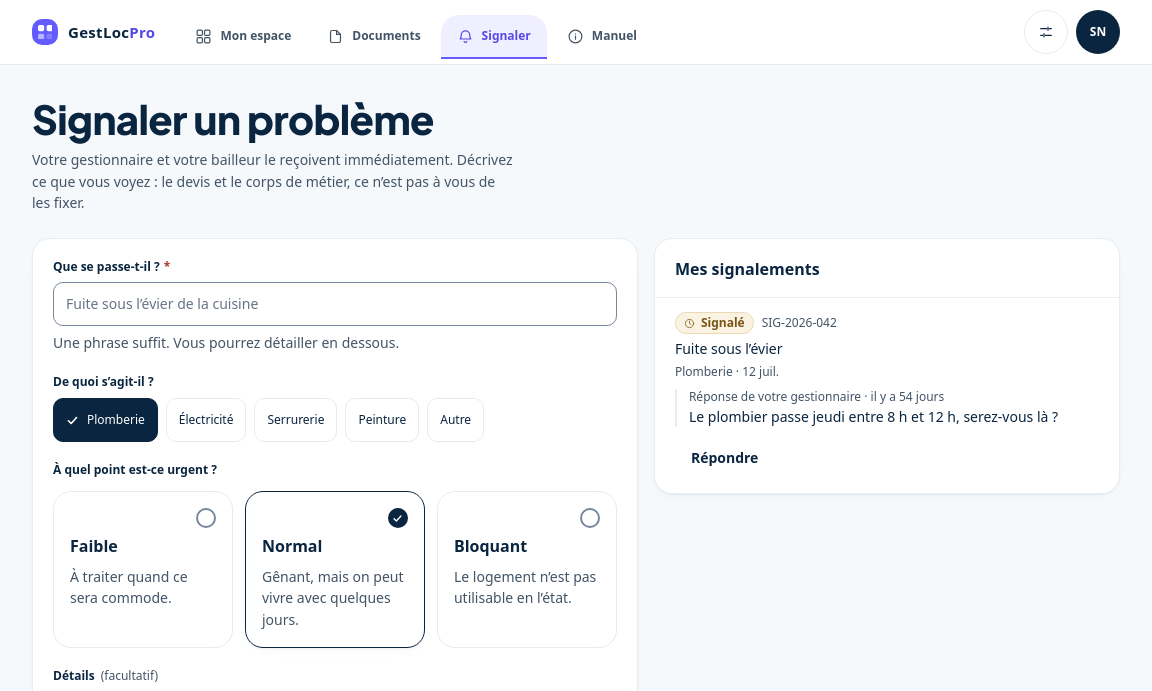
Test: le locataire répond depuis son écran › envoie sa phrase à la route, et ne l’annonce qu’après
This screenshot has width=1152, height=691.
Click the button "Répondre" at (725, 457), box [675,435,774,479]
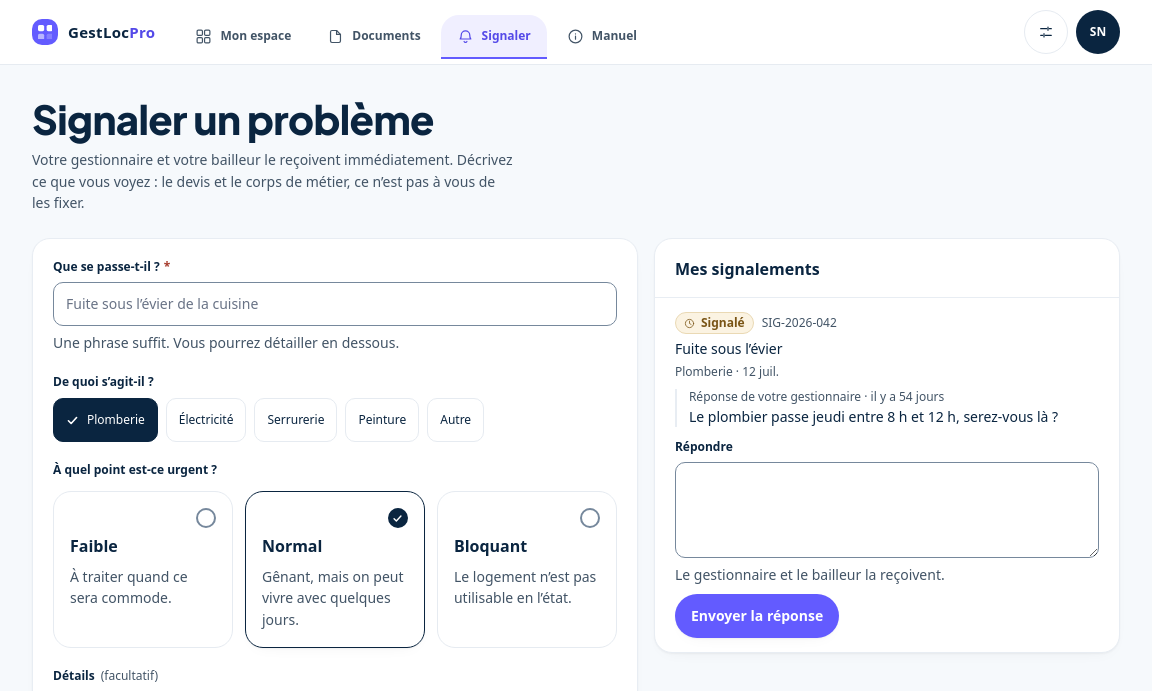
Type "Jeudi je travaille, vendredi matin je suis là." into the text box labelled "Répondre" at (887, 510), box [675,462,1099,558]
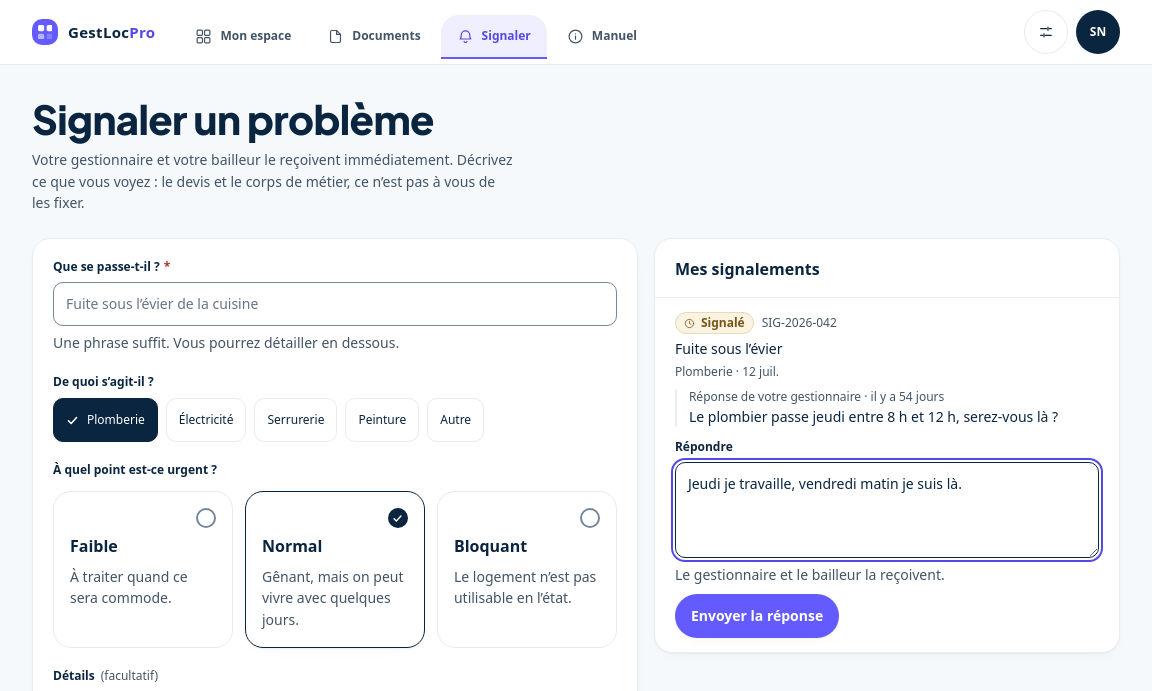
Click the button "Envoyer la réponse" at (757, 616), box [675,594,839,638]
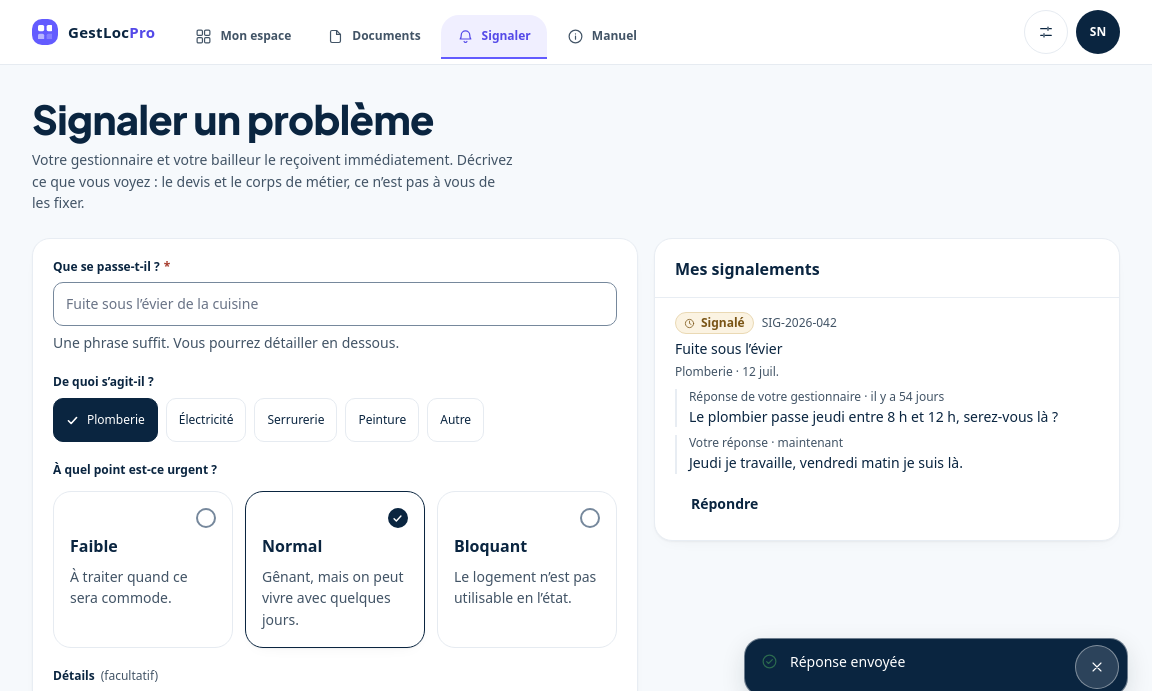
Result: the text "Réponse envoyée" is shown at [790,652,905,671]
